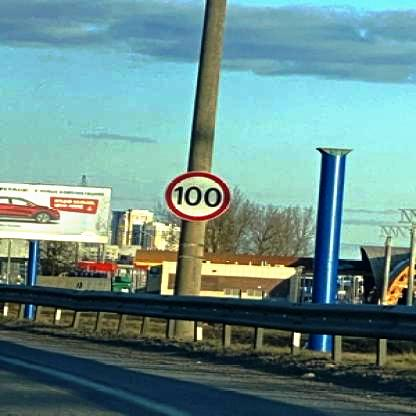Speed Limit -100-: (165, 168, 234, 228)
